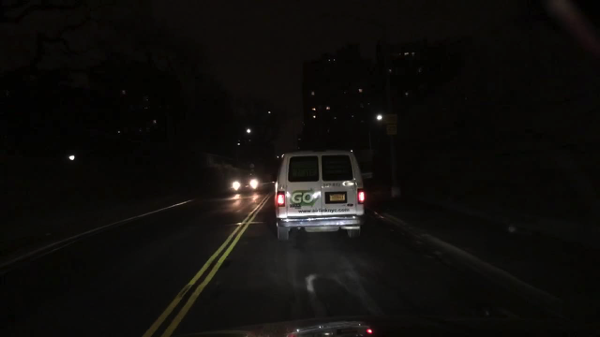car: (272, 149, 366, 240), (223, 166, 263, 194)
traffic sign: (381, 114, 397, 124), (386, 124, 397, 136)
